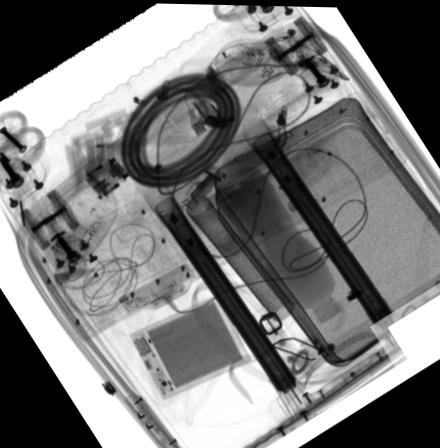Powerbank: (128, 294, 251, 398)
